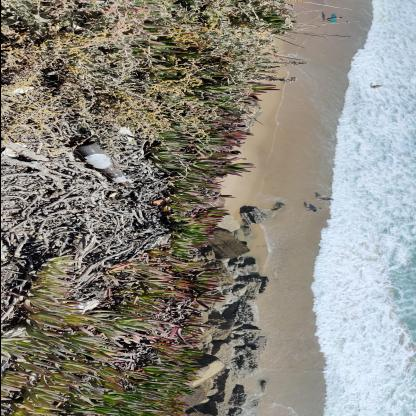cam: (75, 141, 130, 186)
